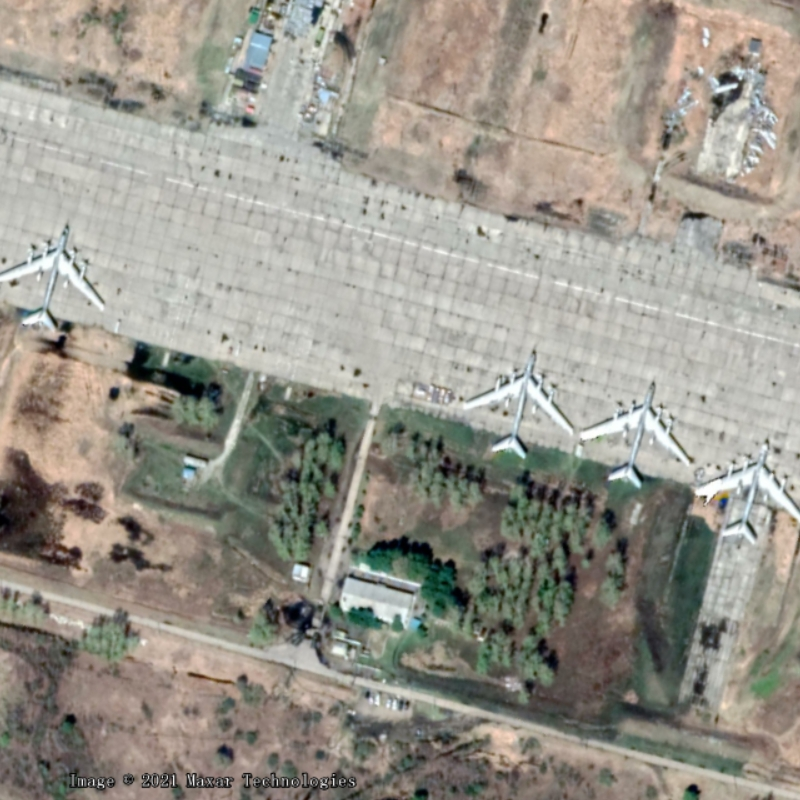A17: (459, 349, 575, 461), (578, 380, 692, 491), (693, 439, 800, 547), (1, 228, 106, 333)
